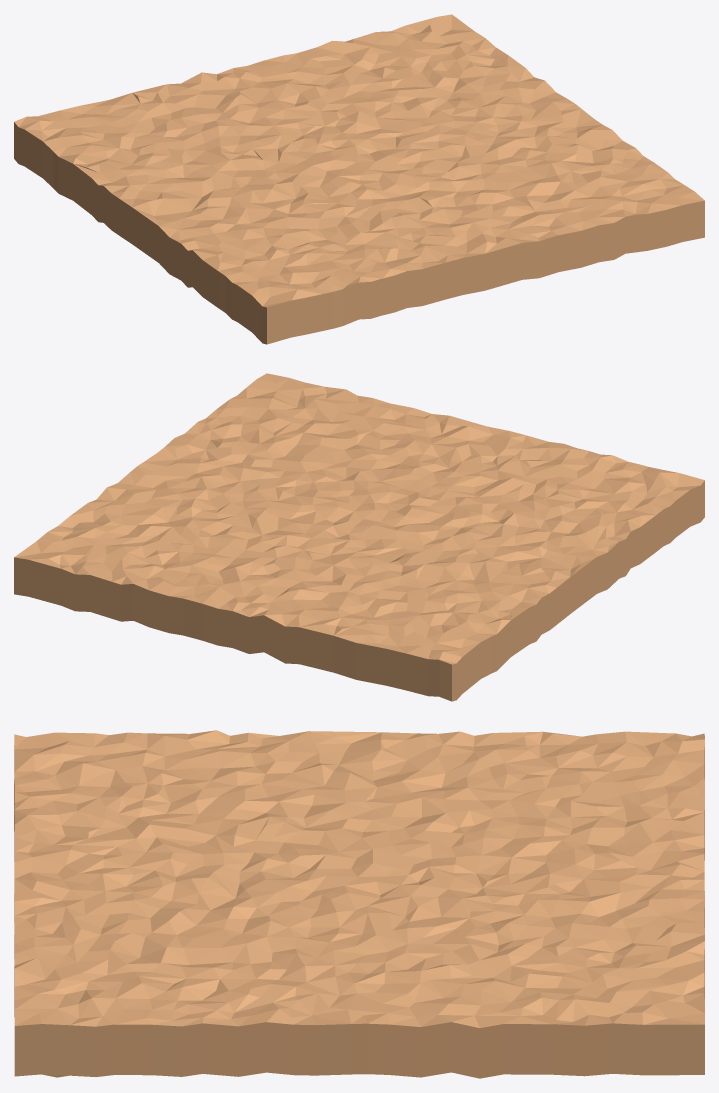
Rendered from MONTAIN_04.fbx.
3 views of the same model, one above another, from view 1: azimuth 30°, elevation 25°; view 2: azimuth 150°, elevation 25°; view 3: azimuth 270°, elevation 25° (orthographic). The views are drawn at different scales.
Parts seen in each view (by area): view 1: Plane.001; view 2: Plane.001; view 3: Plane.001.
Part boxes in pixels (x1,y1,x2,y2): Plane.001: (14,14,704,344); Plane.001: (14,373,704,701); Plane.001: (14,730,704,1078).
Bounding box in the file's own units: 12949 × 1234 × 12952.
